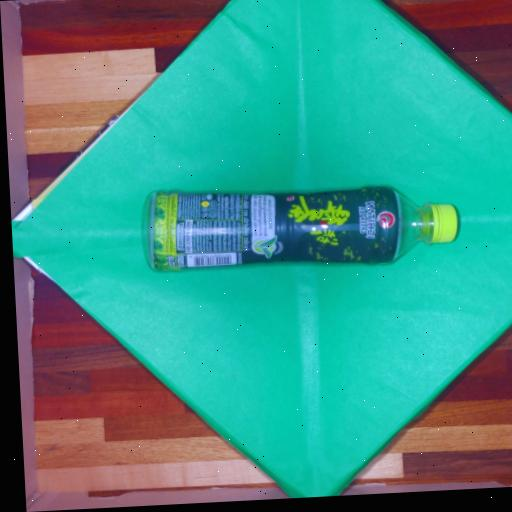bottle: (136, 156, 471, 291)
